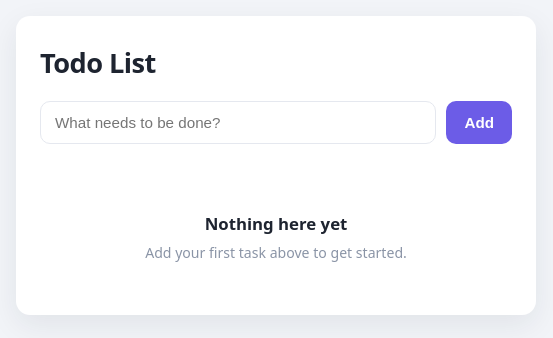
Test: Todo app › adds a todo and updates the remaining count
The image size is (553, 338).
In the field named "new todo text": point(238, 122) x1=40 y1=101 x2=436 y2=144, type "Buy milk"
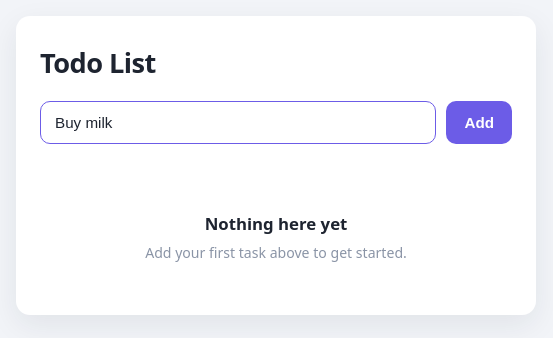
Click the button "Add": point(479, 122) x1=446 y1=101 x2=512 y2=144
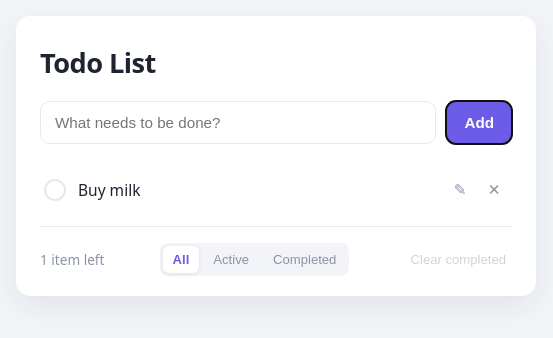
Now the text "Buy milk" is shown, box x1=78 y1=179 x2=140 y2=201
Now the text "1 item left" is shown, box x1=40 y1=250 x2=104 y2=269
